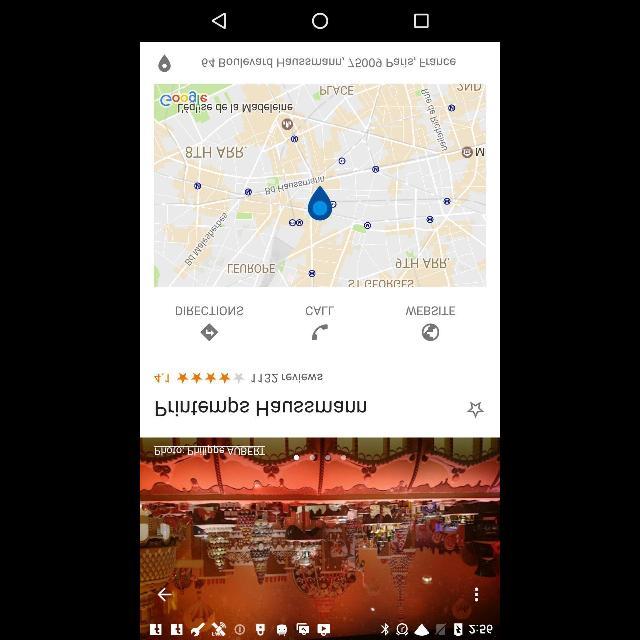backgroundimage: (140, 438, 498, 640)
icon: (422, 322, 440, 342), (201, 323, 217, 342), (312, 12, 328, 30), (310, 322, 328, 338), (212, 12, 226, 28), (160, 52, 170, 72), (414, 13, 428, 27), (469, 402, 483, 416), (158, 589, 170, 603), (206, 371, 217, 383), (474, 587, 481, 603), (178, 372, 188, 383), (234, 374, 244, 384), (220, 372, 228, 383), (193, 372, 201, 382)
map: (154, 82, 486, 288)
pageindicator: (294, 454, 346, 462)
panel: (141, 0, 499, 40)
text: (156, 400, 368, 416), (201, 56, 455, 68), (250, 369, 322, 383), (177, 306, 246, 316), (406, 306, 456, 316), (305, 305, 335, 315), (154, 372, 172, 383)
uppertaskbar: (140, 620, 500, 640)
